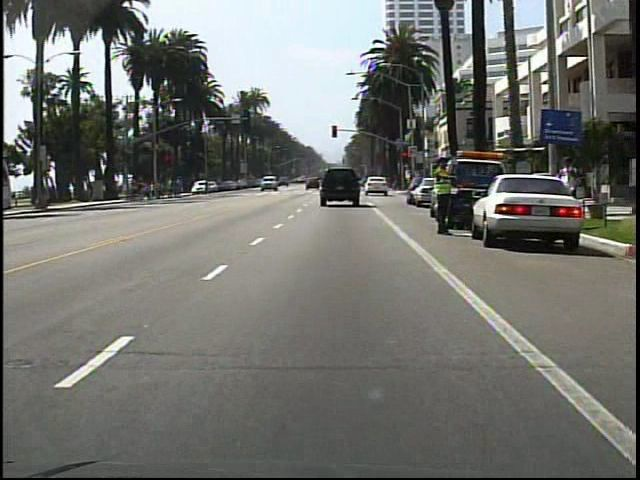person: (554, 150, 587, 237), (432, 150, 460, 236), (196, 174, 215, 202)
